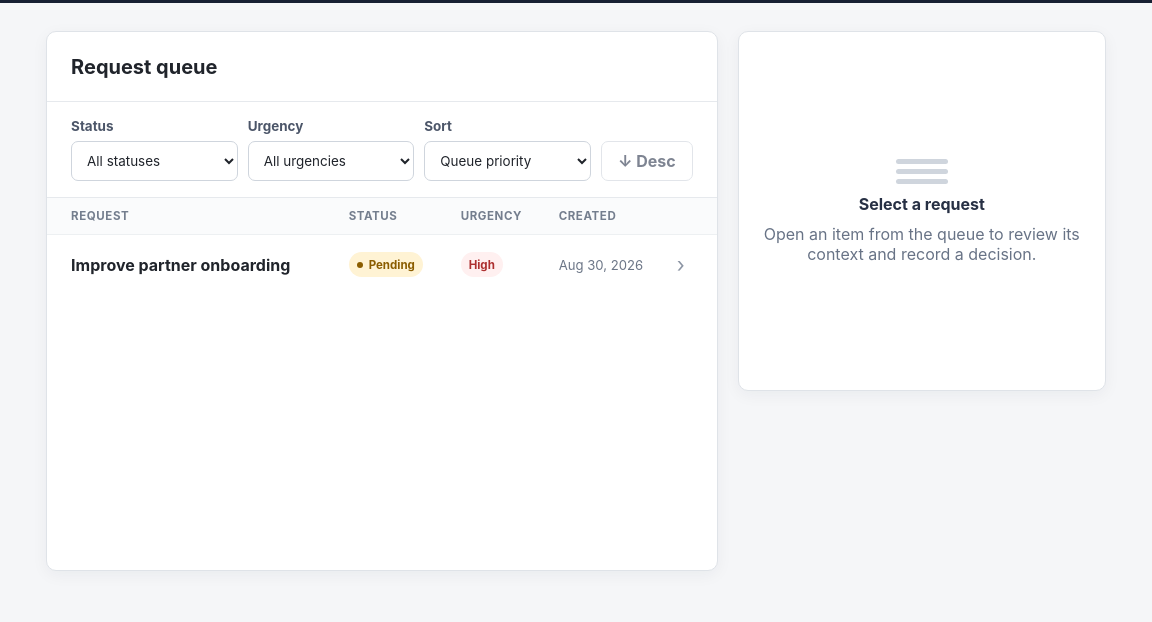
Decision Queue › opens a pending request and records a decision
Click the button "Improve partner onboarding Pending High Aug 30, 2026 ›": (382, 264) [47,234,717,294]
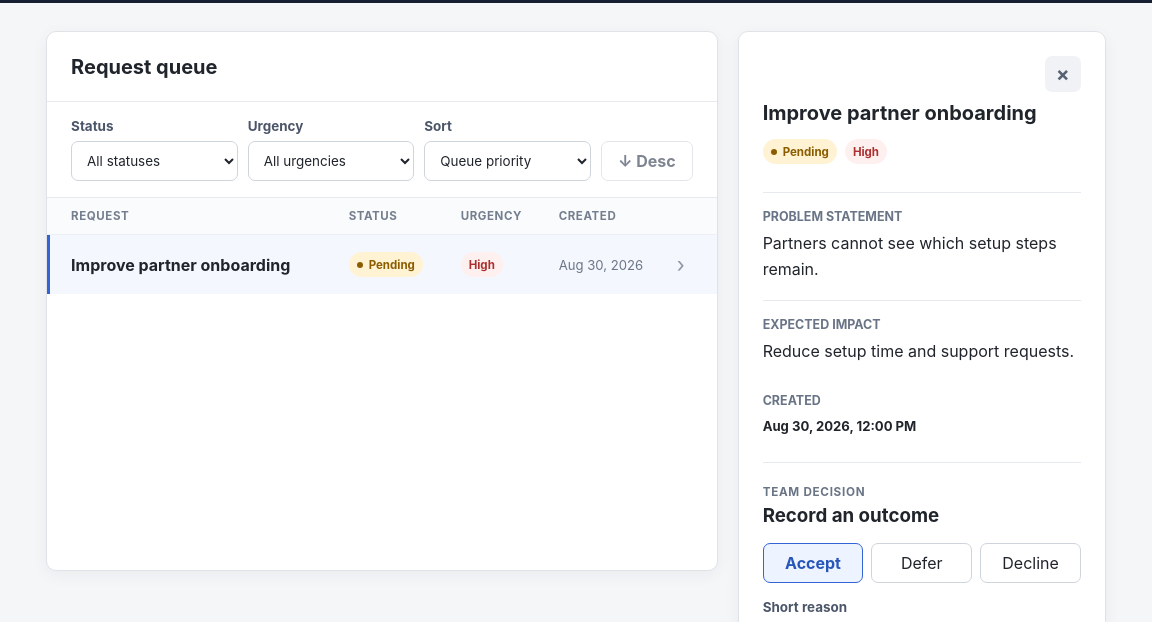
Click the radio button labelled "Defer": (922, 563) [871,543,972,583]
(page scrolled)
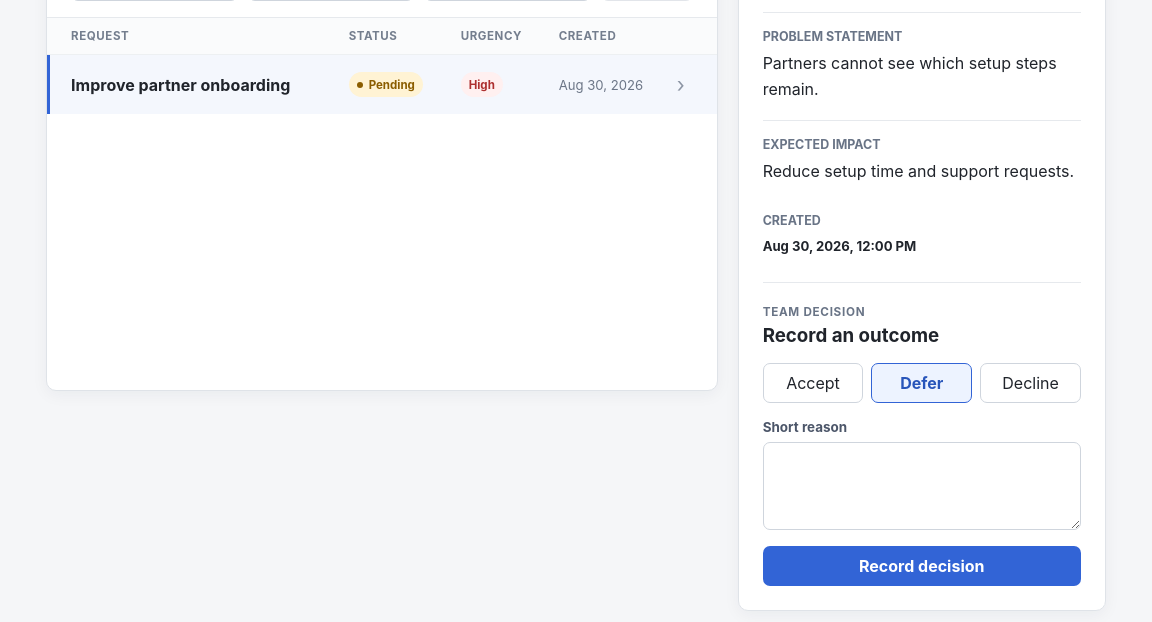
In the text box labelled "Short reason": (922, 486) [763,442,1081,530], type "Validate the impact with two more partner interviews."
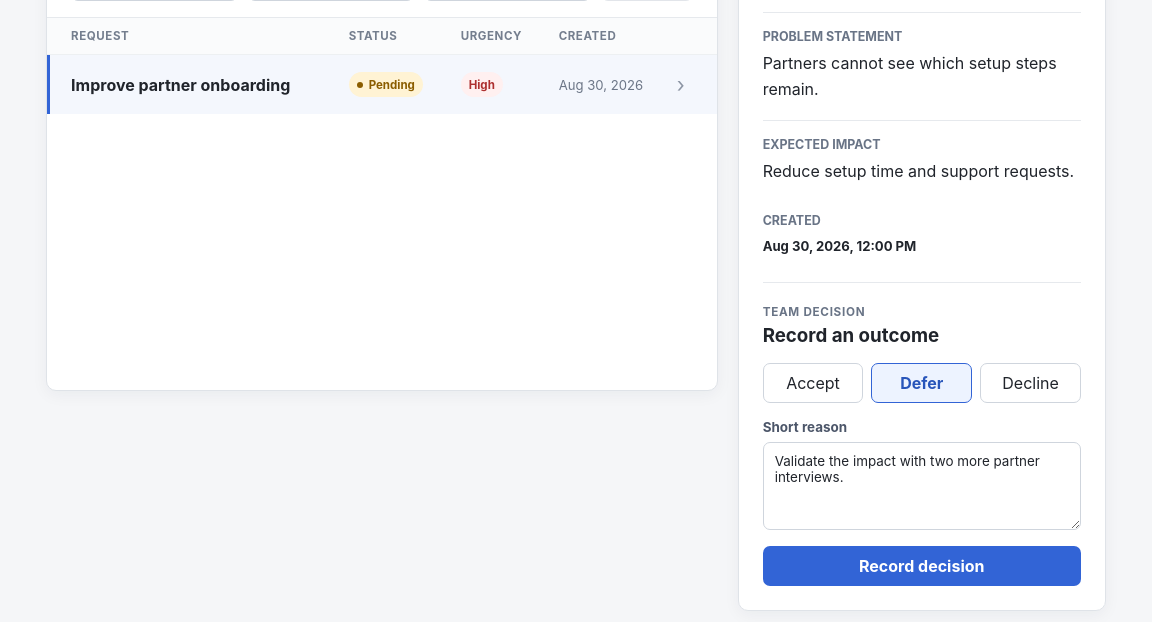
Click the button "Record decision": (922, 566) [763,546,1081,586]
(page scrolled)
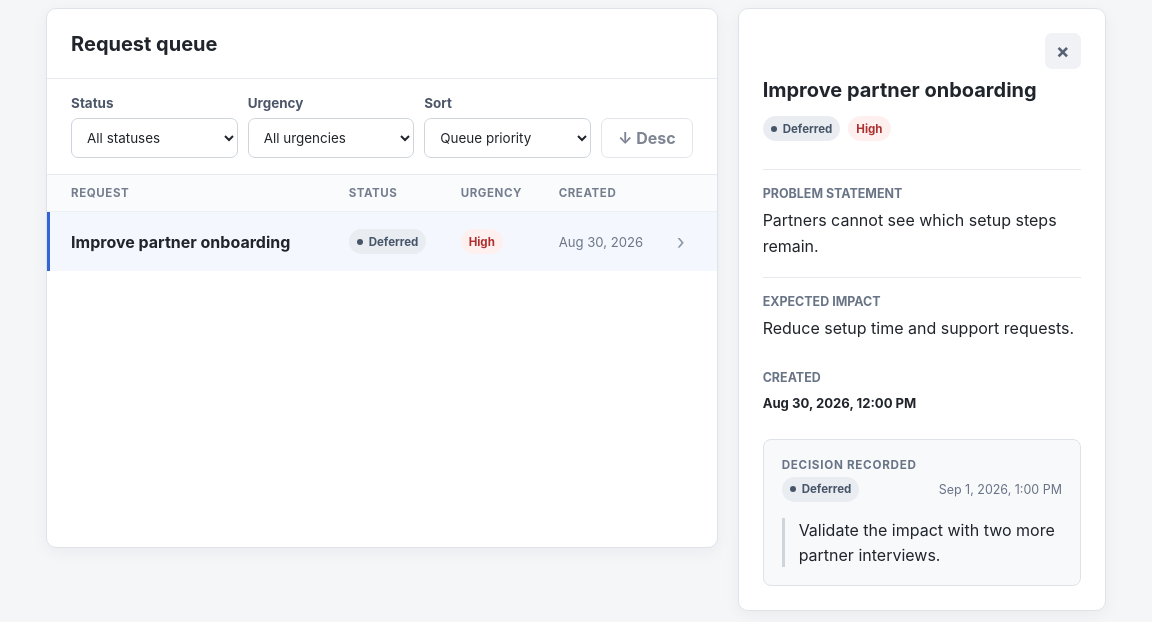
Check: the text "Decision recorded" is shown, box [782,458,916,472]
Check: the text "Deferred" is shown, box [782,477,859,502]
Check: the text "Validate the impact with two more partner interviews." is shown, box [782,518,1062,567]
